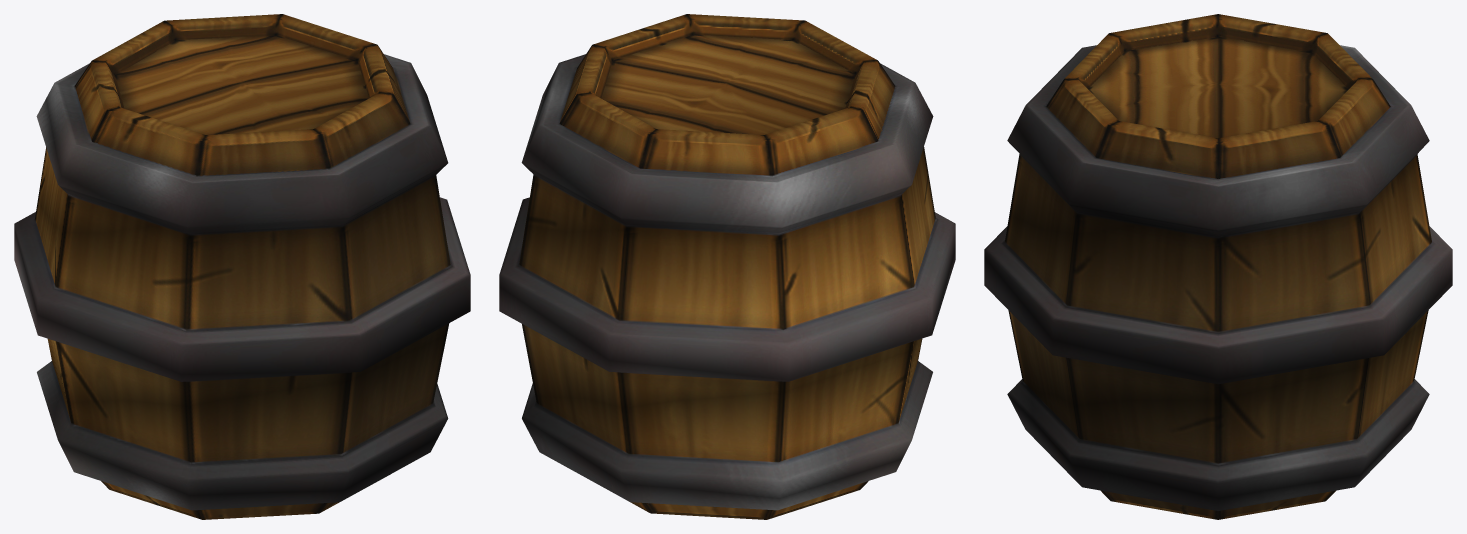
File: barrel2.fbx
3 renders of one model, left to right at view 1: azimuth 30°, elevation 25°; view 2: azimuth 150°, elevation 25°; view 3: azimuth 270°, elevation 25°, orthographic.
Visible parts, largest first — view 1: barrel2; view 2: barrel2; view 3: barrel2.
Part boxes in pixels (left/top/right/bottom): barrel2: left=14, top=14, right=470, bottom=519; barrel2: left=499, top=14, right=955, bottom=519; barrel2: left=984, top=14, right=1452, bottom=519.
Size of the model in its own units: 144 by 128 by 144.
1 material, 1 textured.
